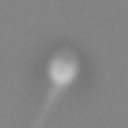normal: (31, 85, 68, 127)
